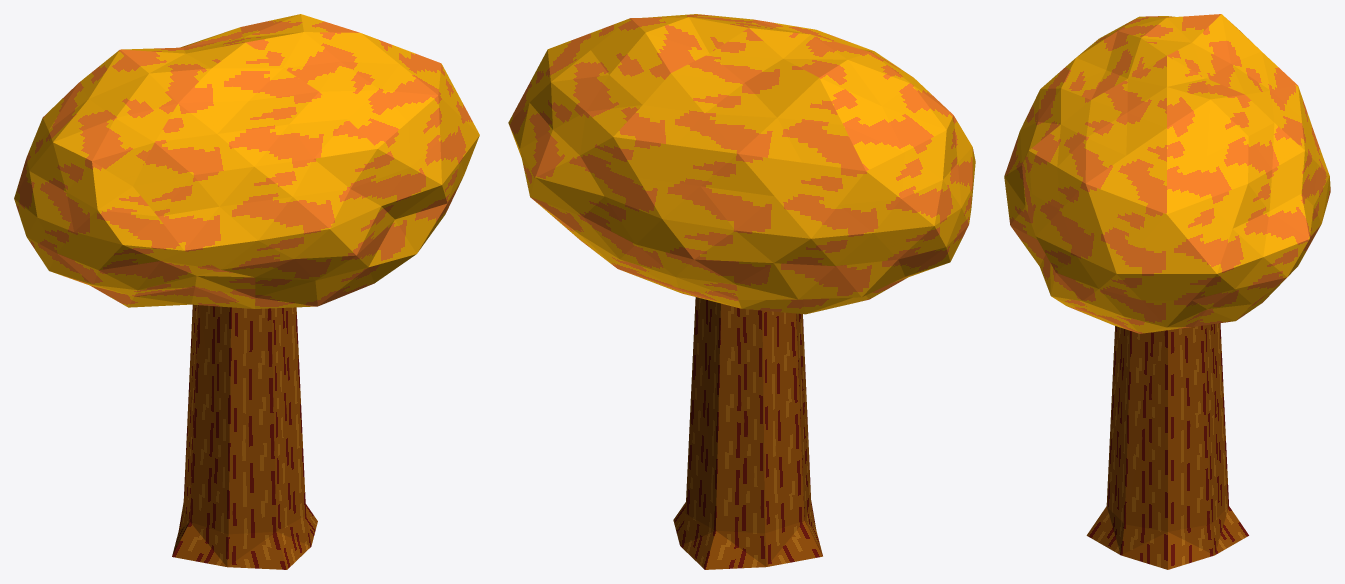
Rendered from Tree.fbx.
3 renders of one model, left to right at view 1: azimuth 30°, elevation 25°; view 2: azimuth 150°, elevation 25°; view 3: azimuth 270°, elevation 25°, orthographic. The views are drawn at different scales.
Parts seen in each view (by area): view 1: Cylinder; view 2: Cylinder; view 3: Cylinder.
Part boxes in pixels (x1,y1,x2,y2): Cylinder: [14, 14, 479, 569]; Cylinder: [508, 14, 975, 569]; Cylinder: [1004, 14, 1330, 569].
Size of the model in its own units: 5.22 by 5.96 by 3.68.
2 materials, 2 textured.
